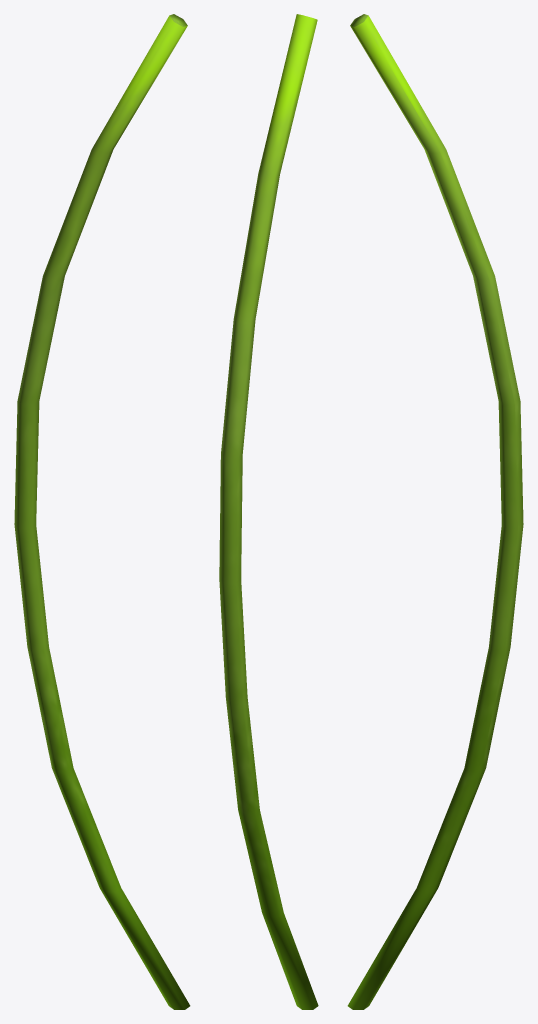
File: stem02.fbx
The picture shows the model from 3 angles, left to right: view 1: azimuth 90°, elevation 25°; view 2: azimuth 150°, elevation 25°; view 3: azimuth 270°, elevation 25°; orthographic projection.
Visible parts, largest first — view 1: stem02; view 2: stem02; view 3: stem02.
Part boxes in pixels (box(x1,y1,x2,y2)): stem02: box(14, 14, 190, 1009); stem02: box(219, 14, 318, 1009); stem02: box(347, 14, 523, 1009).
Size of the model in its own units: 17.32 by 1005 by 162.
